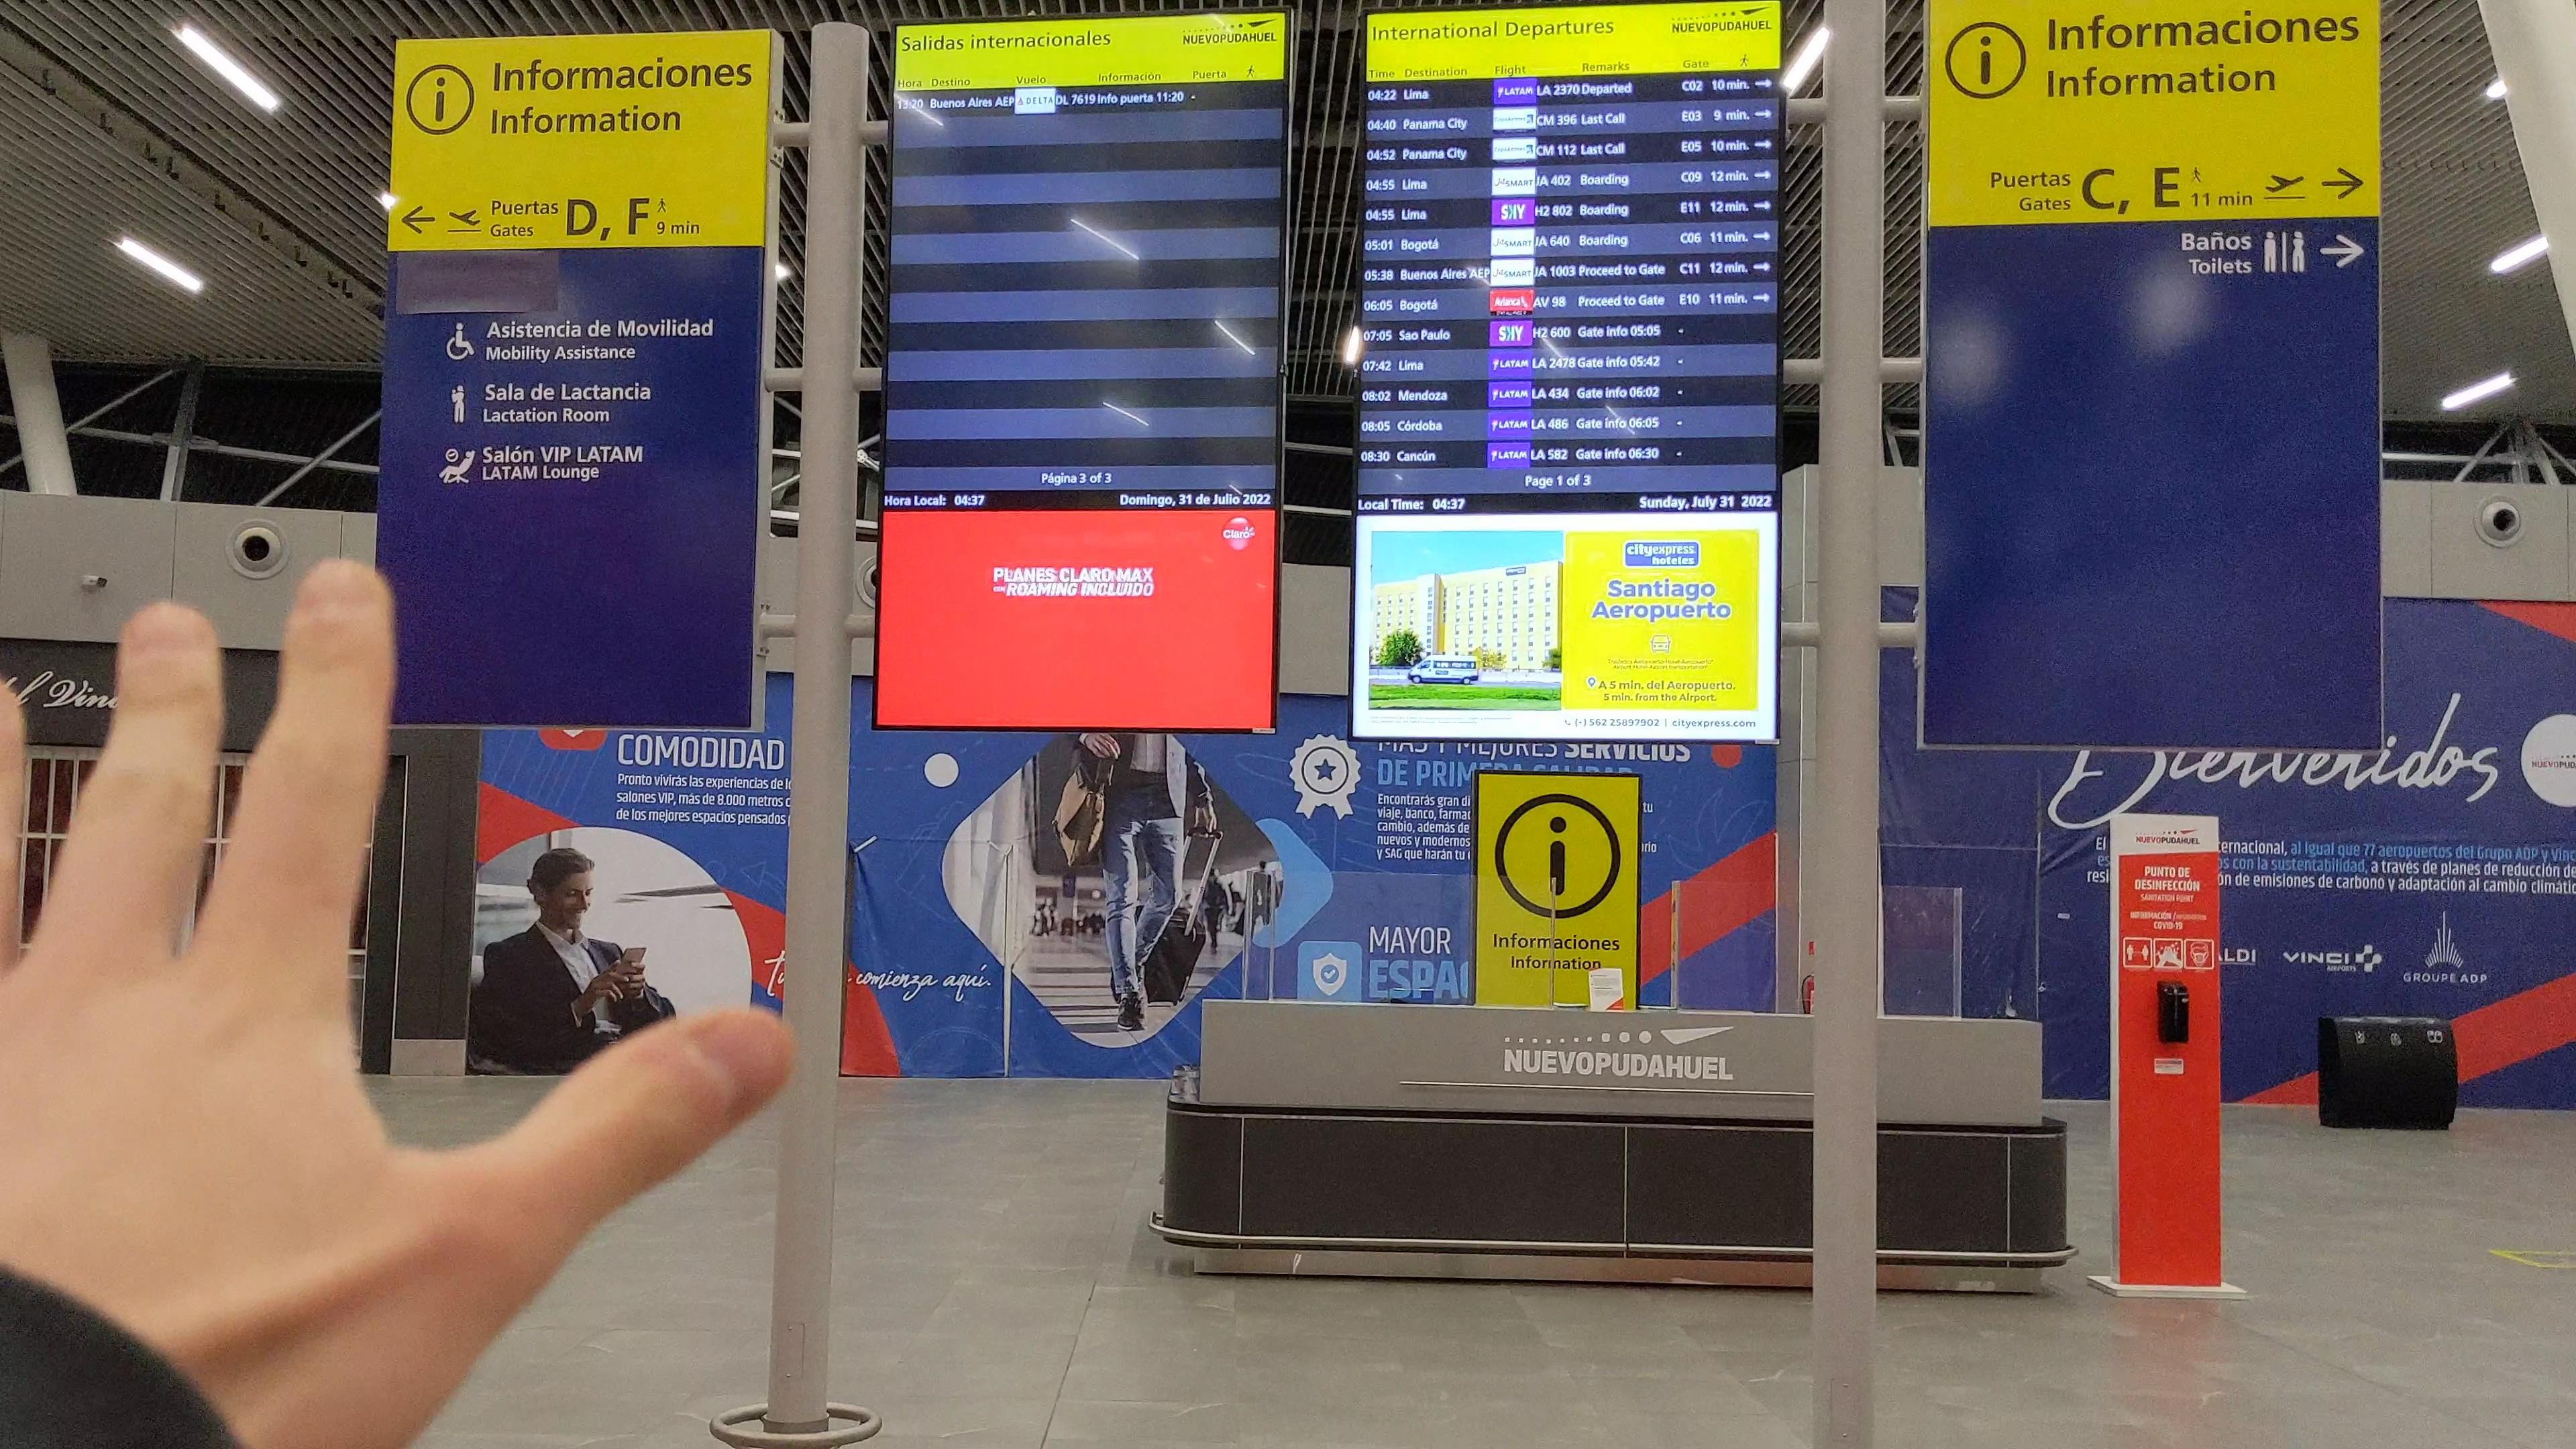airplane symbol: (2265, 173, 2307, 193), (446, 207, 481, 228)
bathrooms: (2263, 226, 2309, 274)
handicapped symbol: (444, 320, 476, 363)
thin left arrow: (400, 203, 439, 235)
thin right arrow: (2316, 232, 2365, 269), (2319, 165, 2365, 202)
